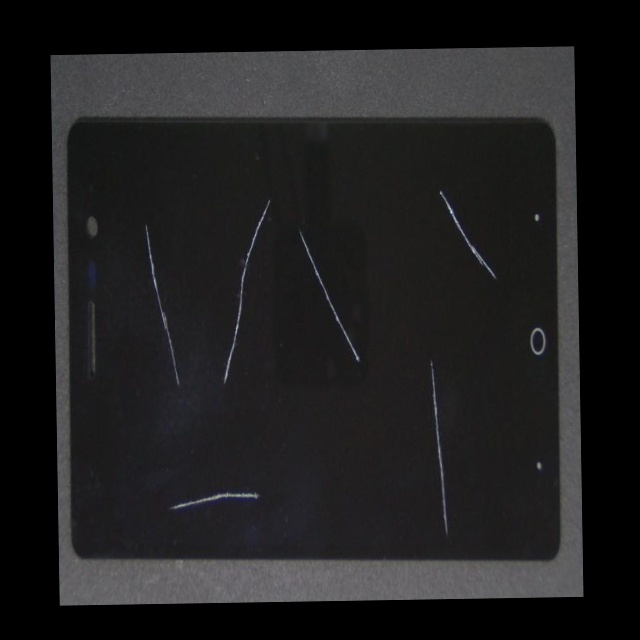scratch: (138, 53, 447, 406), (206, 70, 579, 331), (71, 53, 197, 389)
